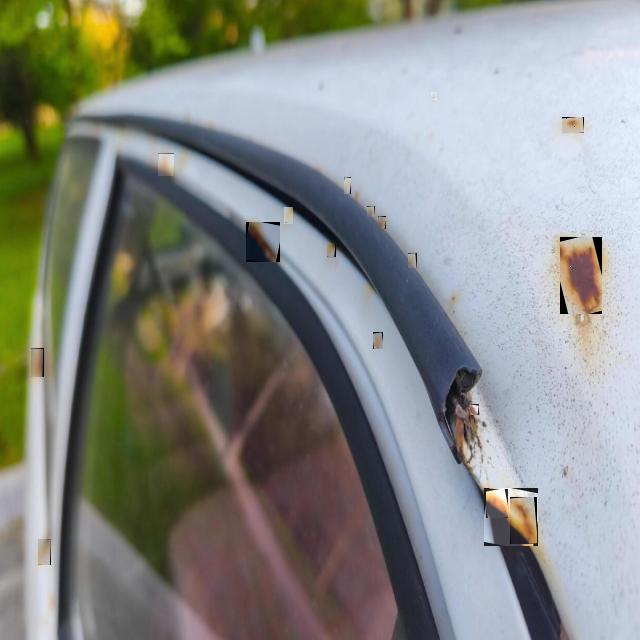Rust: (560, 245, 600, 313), (489, 488, 532, 545), (510, 498, 536, 543), (248, 222, 275, 261), (486, 492, 507, 515), (158, 153, 172, 175), (562, 118, 583, 132), (38, 539, 49, 564), (31, 349, 41, 376), (373, 334, 381, 348), (285, 207, 292, 222), (327, 243, 334, 256), (378, 217, 385, 228), (408, 254, 414, 266), (344, 179, 349, 193), (367, 206, 373, 216), (470, 405, 476, 414), (562, 467, 567, 477), (431, 92, 436, 99)
